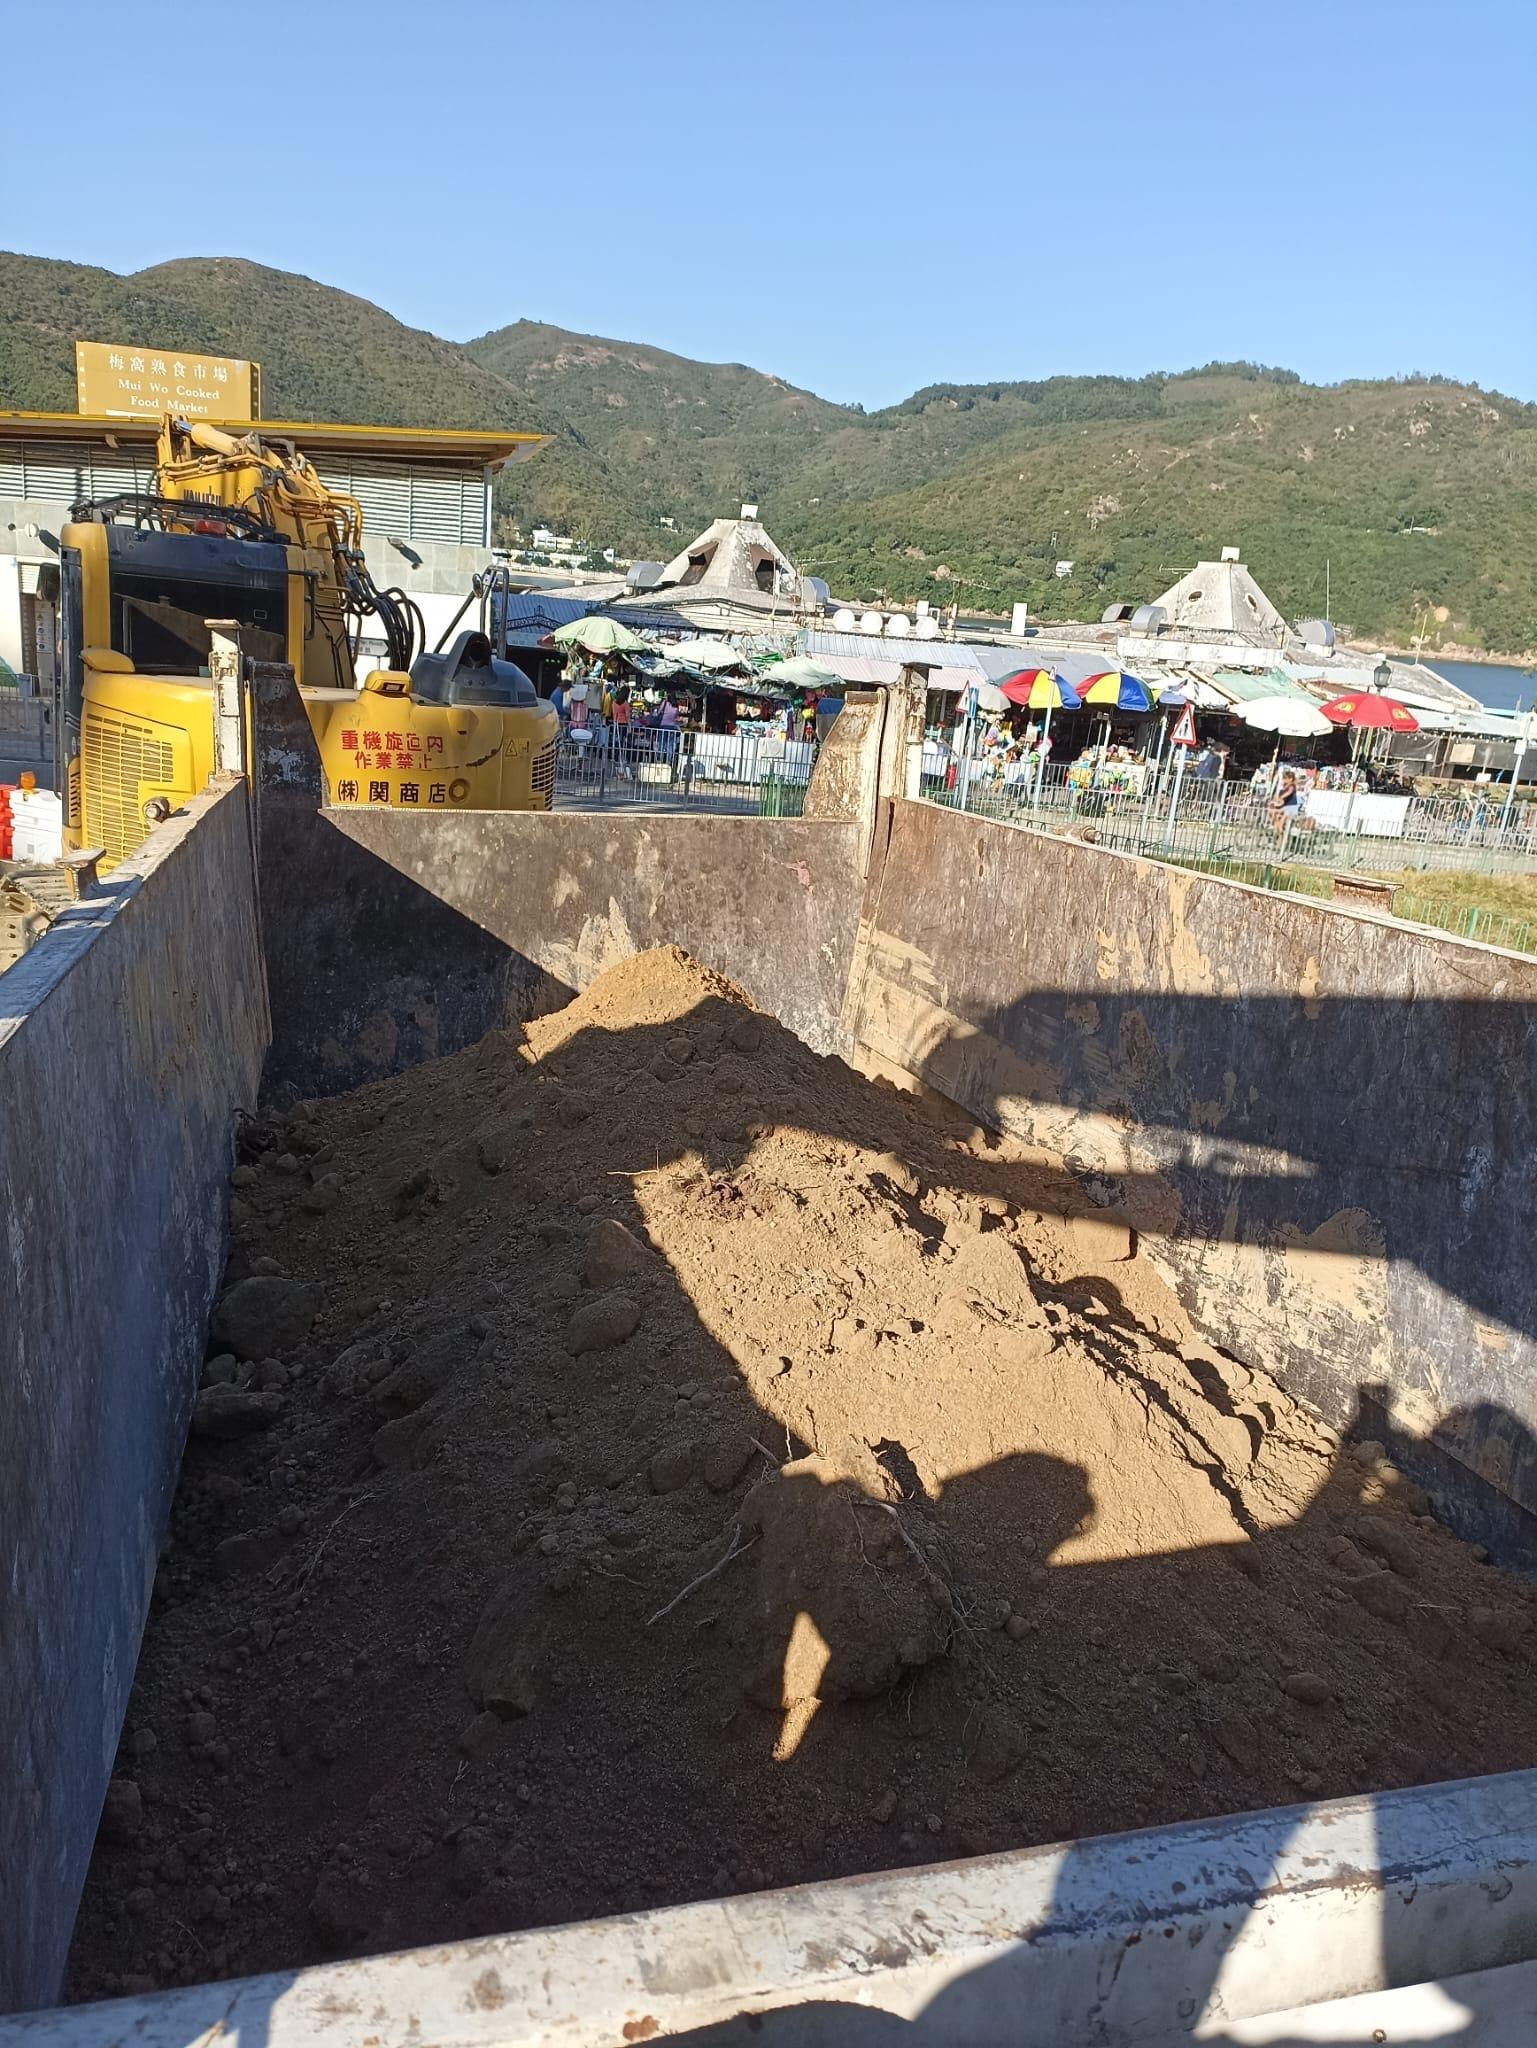dry: (53, 947, 1527, 2009)
